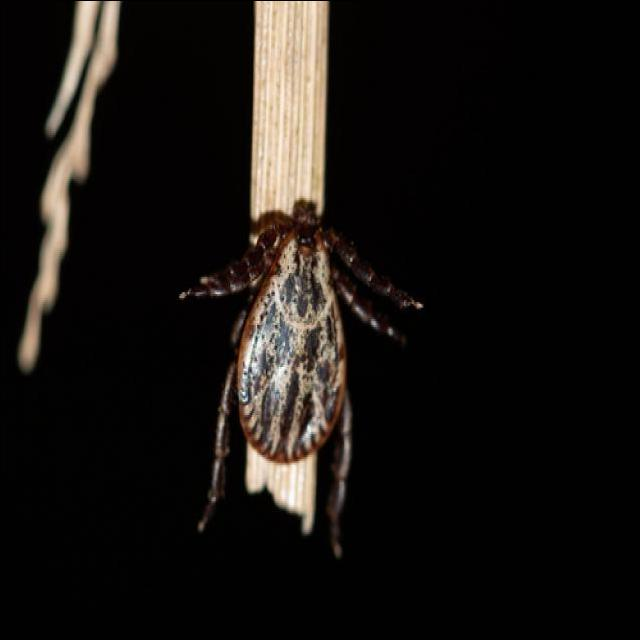Dermacentor Reticulatus-M: (186, 202, 415, 554)
